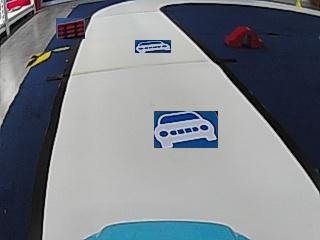bridge: (224, 25, 261, 48)
